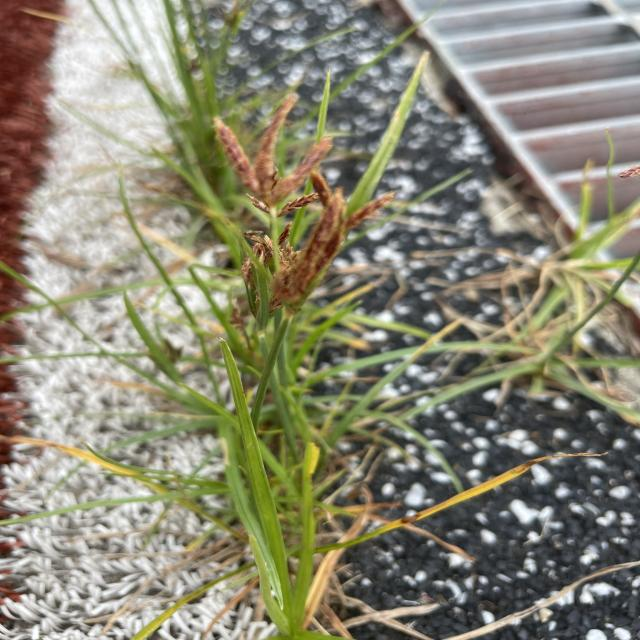cyperus: (198, 79, 364, 319)
